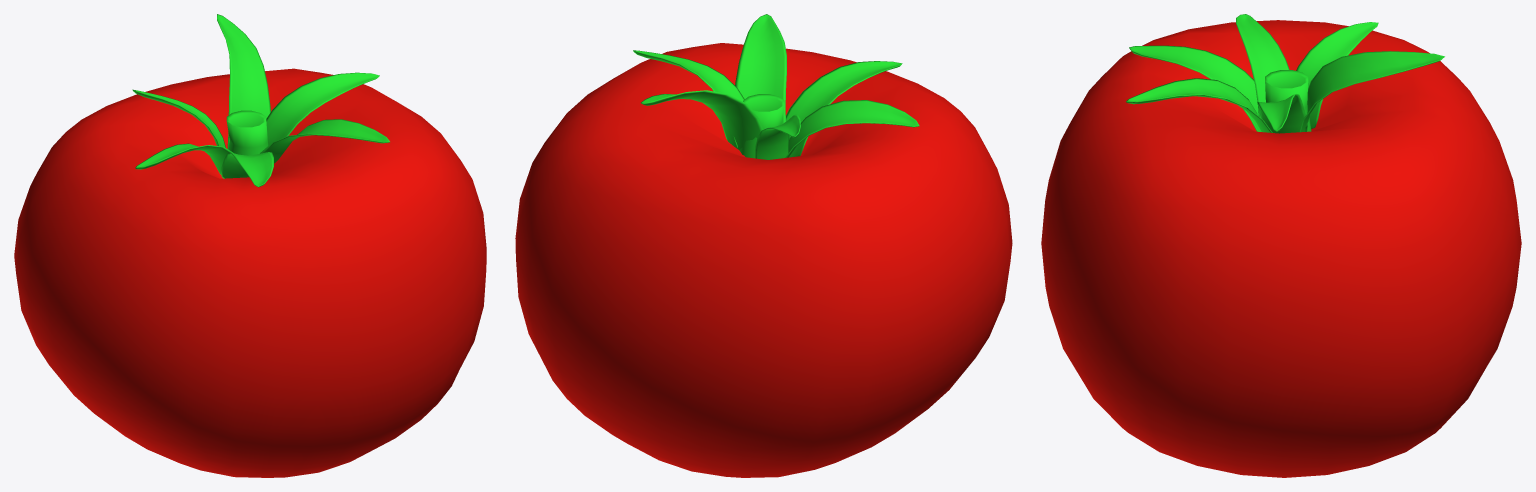
File: Tomatoe.fbx
3 renders of one model, left to right at view 1: azimuth 30°, elevation 25°; view 2: azimuth 150°, elevation 25°; view 3: azimuth 270°, elevation 25°, orthographic. The views are drawn at different scales.
Parts seen in each view (by area): view 1: Tomatoe; view 2: Tomatoe; view 3: Tomatoe.
Part boxes in pixels (x1,y1,x2,y2): Tomatoe: (14, 14, 486, 477); Tomatoe: (515, 14, 1012, 477); Tomatoe: (1041, 14, 1521, 477).
Bounding box in the file's own units: 123 × 110 × 115.
